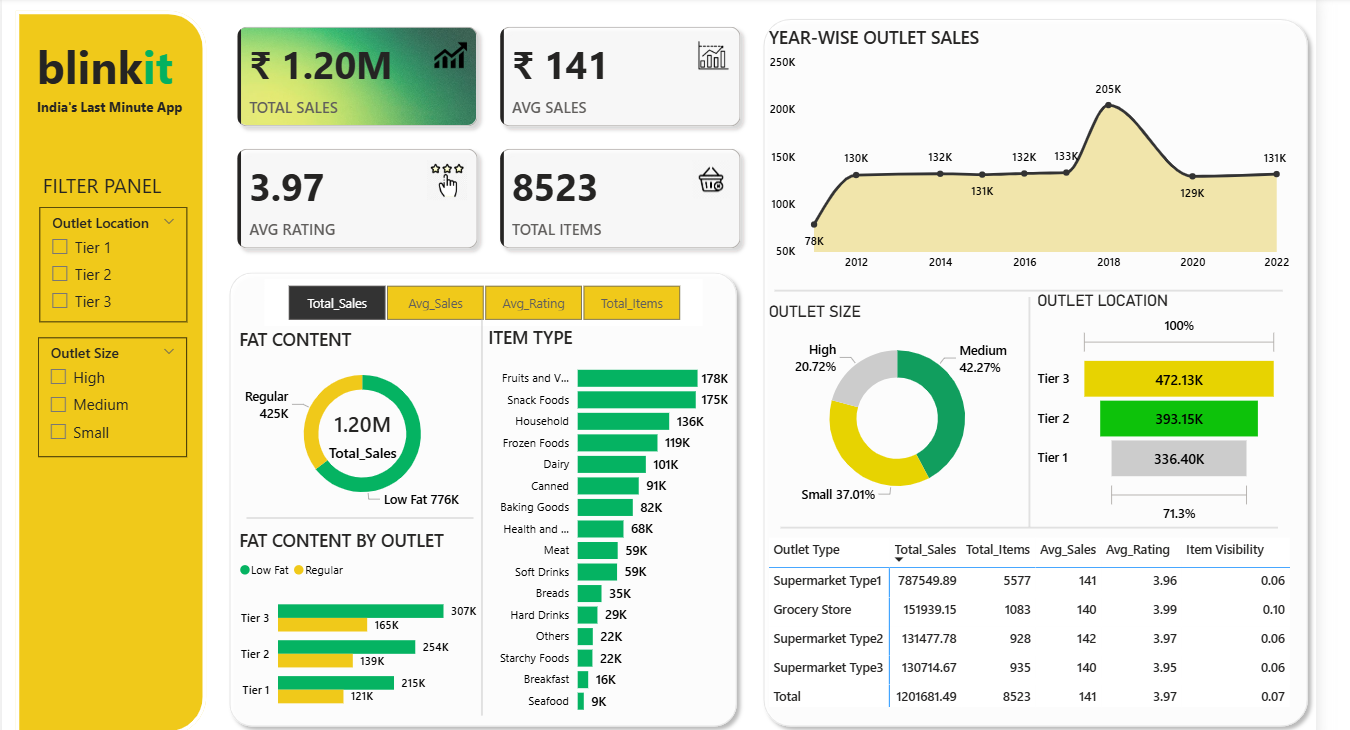

What the dashboard file says about the page in this screenshot:
{"tool":"powerbi","page":{"name":"Dashboard","canvas":[1400,800],"ordinal":0},"visuals":[{"type":"shape","box":[15,15,203.3,771.7],"z":0},{"type":"donutChart","title":"FAT CONTENT","fields":{"Y":["blinkit_data grocery_data.Total_Sales"],"Category":["blinkit_data grocery_data.Item Fat Content"]},"box":[248.3,351.7,271.7,201.7],"z":0,"group":"g1"},{"type":"textbox","box":[31.7,35,171.7,86.7],"z":1000},{"type":"card","fields":{"Values":["blinkit_data grocery_data.Total_Sales"]},"box":[313.3,423.4,141.7,85],"z":1000,"group":"g1"},{"type":"textbox","box":[31.7,100,171.7,81.7],"z":2000},{"type":"cardVisual","fields":{"Data":["blinkit_data grocery_data.Total_Sales","blinkit_data grocery_data.Avg_Sales","blinkit_data grocery_data.Avg_Rating","blinkit_data grocery_data.Total_Items"]},"box":[233.3,15,570,270],"z":3000},{"type":"shape","box":[233.3,285,558.3,501.7],"z":4000},{"type":"slicer","fields":{"Values":["Parameter.Parameter"]},"box":[280,300,466.7,50],"z":5000},{"type":"group","id":"g1","title":"Group 1","box":[248.3,351.7,271.7,201.7],"z":6000},{"type":"clusteredBarChart","title":"FAT CONTENT BY OUTLET","fields":{"Y":["blinkit_data grocery_data.Total_Sales"],"Category":["blinkit_data grocery_data.Outlet Location Type"],"Series":["blinkit_data grocery_data.Item Fat Content"]},"box":[248.3,565,265,208.3],"z":7000},{"type":"barChart","title":"ITEM TYPE","fields":{"Y":["blinkit_data grocery_data.Total_Sales"],"Category":["blinkit_data grocery_data.Item Type"]},"box":[513.3,350,265,423.3],"z":8000},{"type":"shape","box":[801.6,14.9,597.9,771.8],"z":9000},{"type":"lineChart","title":"OUTLET ESTABLISHMENT","fields":{"Y":["blinkit_data grocery_data.Total_Sales"],"Category":["blinkit_data grocery_data.Outlet Establishment Year"]},"box":[811.5,29.8,564.8,270],"z":10000},{"type":"shape","box":[260,539.9,241.8,29.8],"z":11000},{"type":"shape","box":[490.2,342.8,41.4,422.3],"z":12000},{"type":"shape","box":[823.1,299.8,541.6,24.8],"z":13000},{"type":"donutChart","title":"OUTLET SIZE","fields":{"Category":["blinkit_data grocery_data.Outlet Size"],"Y":["Sum(blinkit_data grocery_data.Sales)"]},"box":[811.5,324.6,283.2,228.6],"z":14000},{"type":"funnel","title":"OUTLET LOCATION","fields":{"Category":["blinkit_data grocery_data.Outlet Location Type"],"Y":["blinkit_data grocery_data.Total_Sales"]},"box":[1098,313,266.6,251.7],"z":15000},{"type":"shape","box":[1073.2,319.6,41.4,245.1],"z":16000},{"type":"pivotTable","fields":{"Values":["blinkit_data grocery_data.Total_Sales","blinkit_data grocery_data.Total_Items","blinkit_data grocery_data.Avg_Sales","blinkit_data grocery_data.Avg_Rating","Avg(blinkit_data grocery_data.Item Visibility)"],"Rows":["blinkit_data grocery_data.Outlet Type"]},"box":[811.5,569.7,574.7,203.7],"z":17000},{"type":"shape","box":[829.7,554.8,530,21.5],"z":18000},{"type":"slicer","fields":{"Values":["blinkit_data grocery_data.Outlet Location Type"]},"box":[39.7,223.6,157.3,122.6],"z":19000},{"type":"slicer","fields":{"Values":["blinkit_data grocery_data.Outlet Size"]},"box":[38.1,362.7,159,127.5],"z":20000},{"type":"textbox","box":[38.1,180.5,213.6,58],"z":21000}]}

Visuals, with their boxes on the page's 1400x800 design canvas (x1, y1, x2, y2). These are canvas units, not pixel positions in the 1350x730 screenshot, which may show the page scaled, cropped or inside an application window:
shape: <bbox>15, 15, 218, 787</bbox>
"FAT CONTENT" donutChart: <bbox>248, 352, 520, 553</bbox>
textbox: <bbox>32, 35, 203, 122</bbox>
card - blinkit_data grocery_data.Total_Sales: <bbox>313, 423, 455, 508</bbox>
textbox: <bbox>32, 100, 203, 182</bbox>
cardVisual - blinkit_data grocery_data.Total_Sales x blinkit_data grocery_data.Avg_Sales: <bbox>233, 15, 803, 285</bbox>
shape: <bbox>233, 285, 792, 787</bbox>
slicer - Parameter.Parameter: <bbox>280, 300, 747, 350</bbox>
"Group 1" group: <bbox>248, 352, 520, 553</bbox>
"FAT CONTENT BY OUTLET" clusteredBarChart: <bbox>248, 565, 513, 773</bbox>
"ITEM TYPE" barChart: <bbox>513, 350, 778, 773</bbox>
shape: <bbox>802, 15, 1400, 787</bbox>
"OUTLET ESTABLISHMENT" lineChart: <bbox>812, 30, 1376, 300</bbox>
shape: <bbox>260, 540, 502, 570</bbox>
shape: <bbox>490, 343, 532, 765</bbox>
shape: <bbox>823, 300, 1365, 325</bbox>
"OUTLET SIZE" donutChart: <bbox>812, 325, 1095, 553</bbox>
"OUTLET LOCATION" funnel: <bbox>1098, 313, 1365, 565</bbox>
shape: <bbox>1073, 320, 1115, 565</bbox>
pivotTable - blinkit_data grocery_data.Total_Sales x blinkit_data grocery_data.Total_Items: <bbox>812, 570, 1386, 773</bbox>
shape: <bbox>830, 555, 1360, 576</bbox>
slicer - blinkit_data grocery_data.Outlet Location Type: <bbox>40, 224, 197, 346</bbox>
slicer - blinkit_data grocery_data.Outlet Size: <bbox>38, 363, 197, 490</bbox>
textbox: <bbox>38, 180, 252, 238</bbox>
